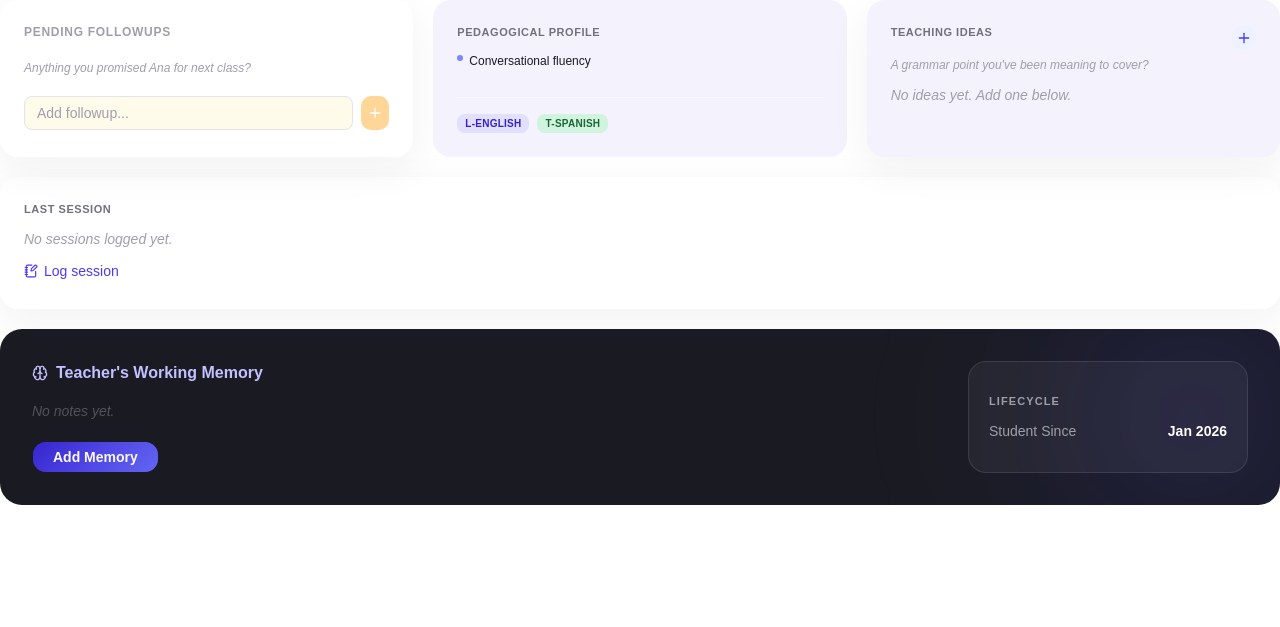
it: StudentOverviewTab - TeachingNotesPanel › hides textarea when Cancel is clicked
The width and height of the screenshot is (1280, 627).
Click the button with test id "add-memory-btn": (95, 457) [32,441,159,473]
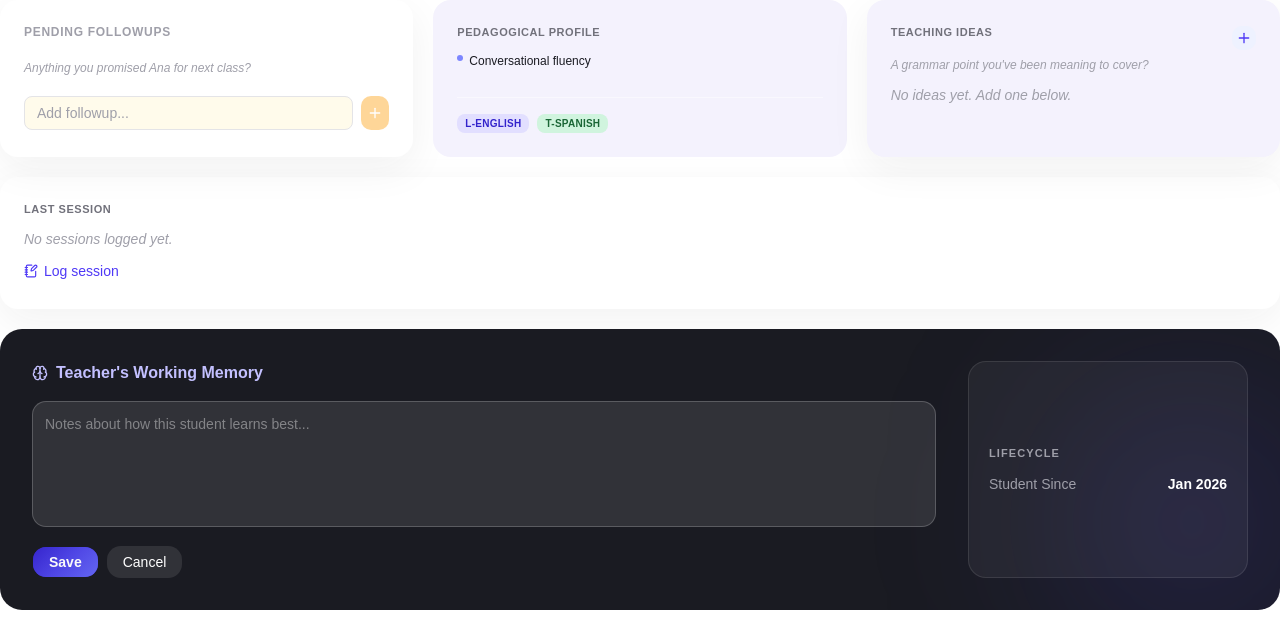
Now the text box with test id "teaching-notes-textarea" is shown, box [32,401,936,527]
Click the button with test id "teaching-notes-cancel-btn": (144, 562) [107,546,182,578]
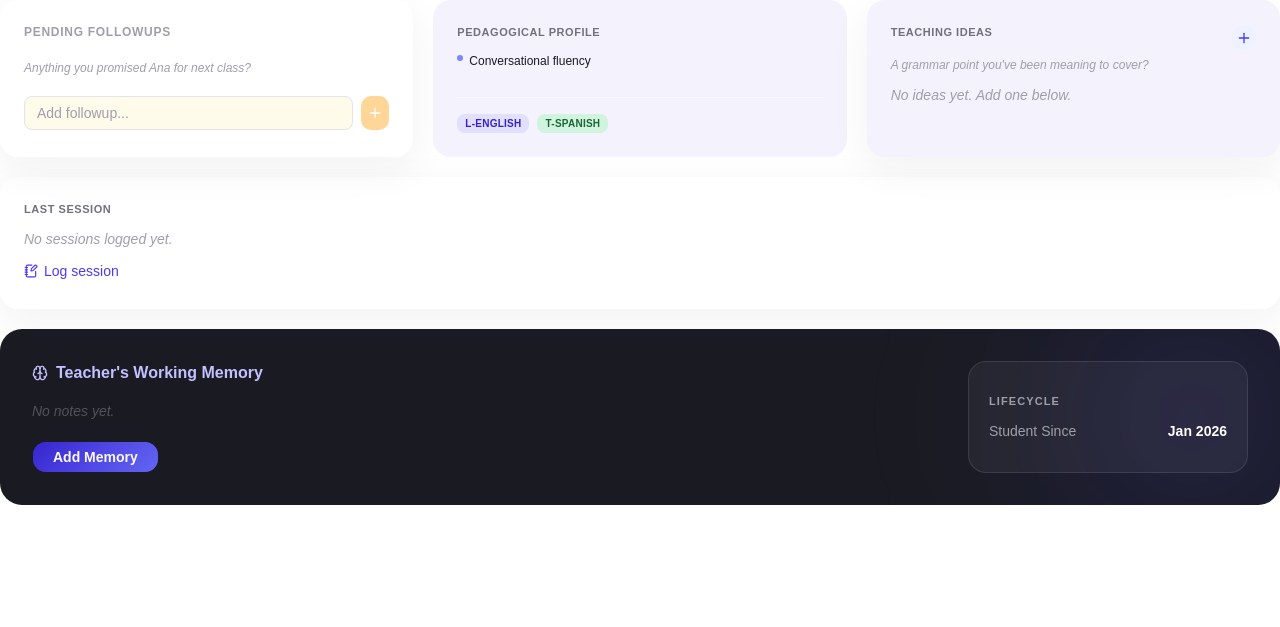
Now the text box with test id "teaching-notes-textarea" is gone
